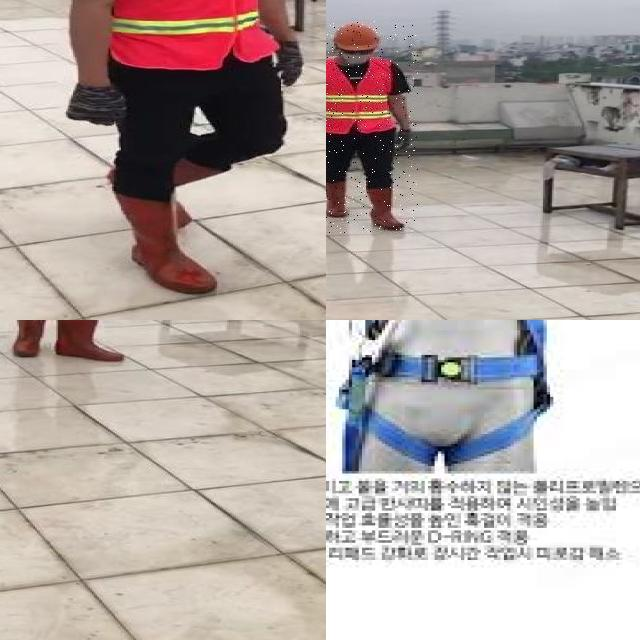Harness: (336, 320, 557, 467)
boots: (112, 192, 222, 295), (54, 320, 123, 363), (366, 185, 404, 229), (8, 320, 45, 359), (326, 180, 349, 218)
hand_glove: (62, 83, 132, 125), (270, 38, 306, 84)
head_helmet: (332, 22, 382, 52)
person: (40, 0, 321, 310), (326, 22, 418, 233)
vest: (110, 0, 277, 69), (326, 58, 395, 134)
